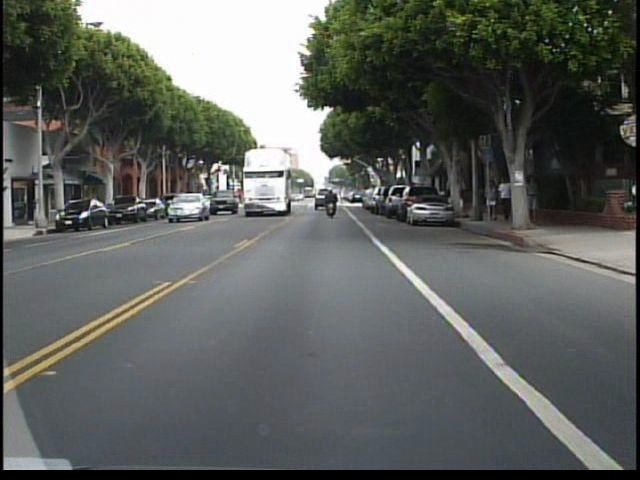person: (496, 175, 514, 225), (482, 176, 499, 224), (525, 173, 540, 224), (323, 184, 341, 221)
